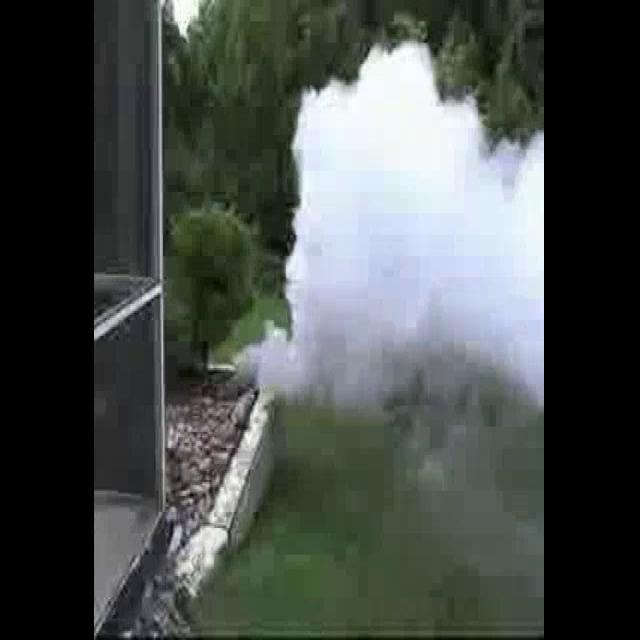Smoke: (226, 31, 544, 418)
